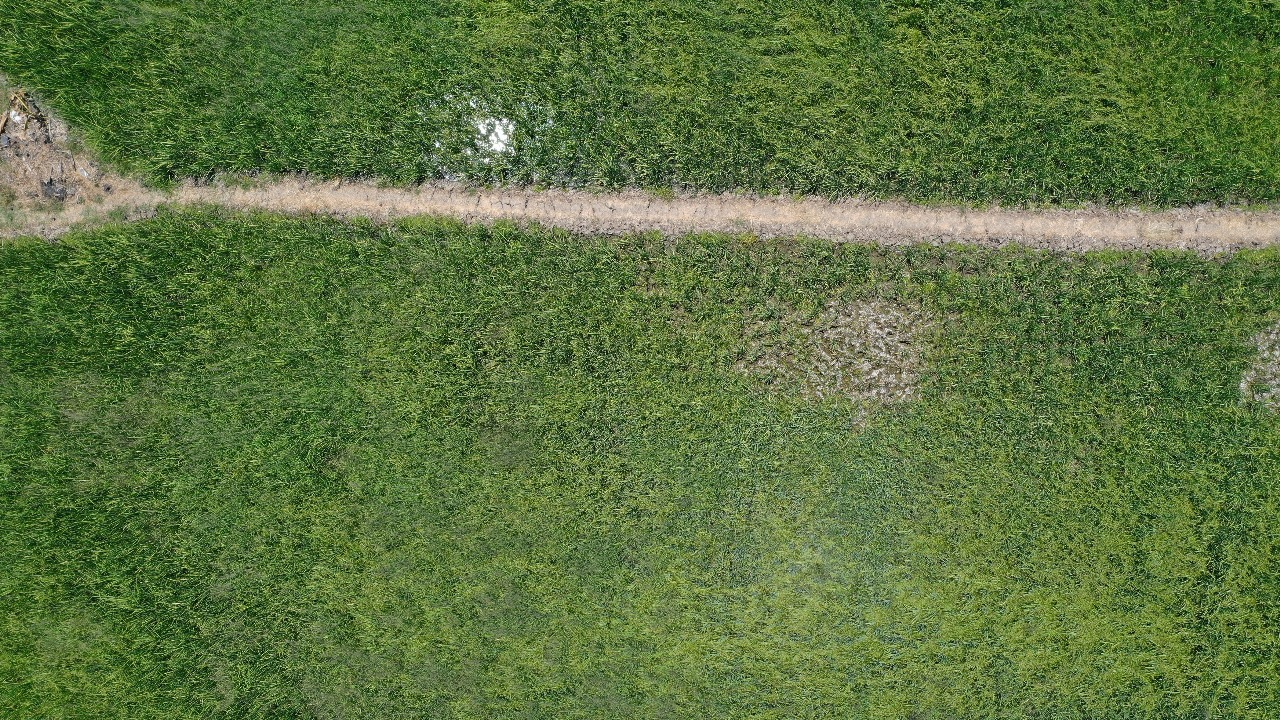irigration: (162, 169, 1280, 252), (1, 68, 167, 282)
